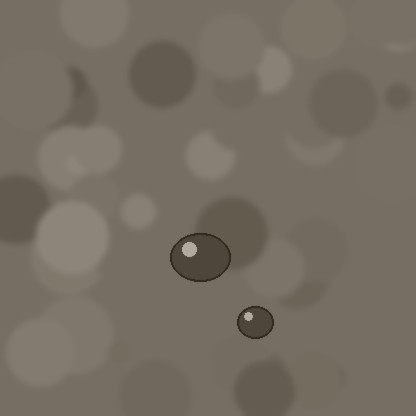gota: (170, 235, 230, 285), (237, 307, 273, 341)
